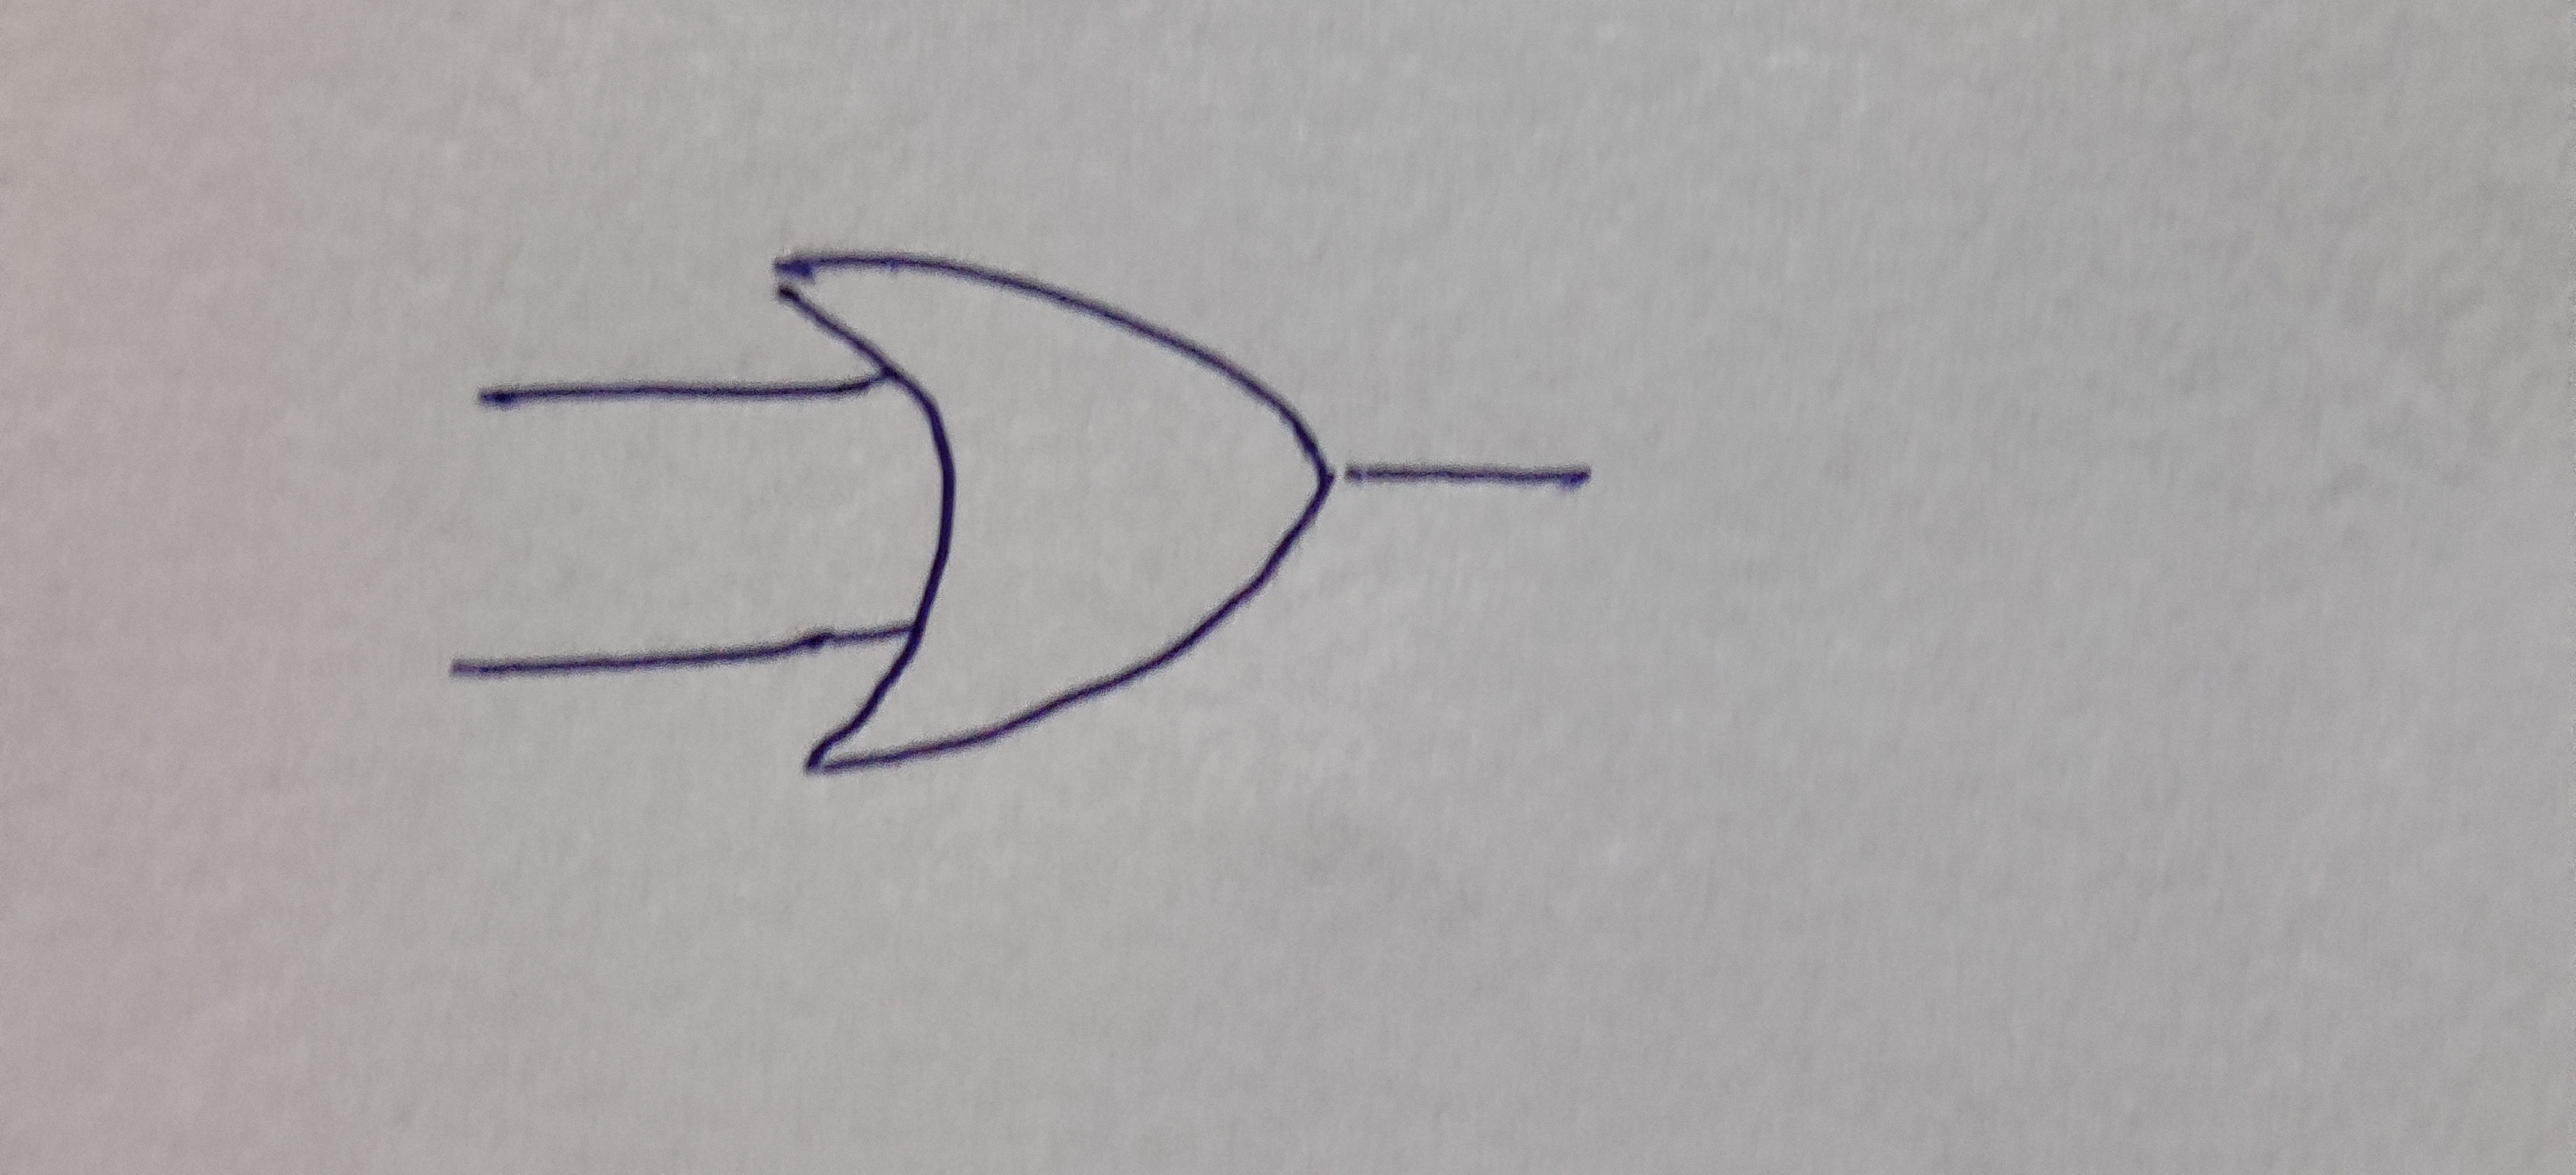or: (777, 256, 1334, 772)
